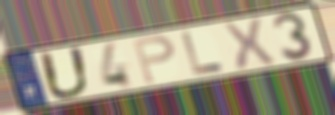3: (270, 10, 317, 64)
4: (96, 41, 137, 91)
L: (179, 30, 227, 77)
P: (130, 34, 177, 86)
U: (36, 44, 94, 101)
X: (219, 16, 278, 74)
